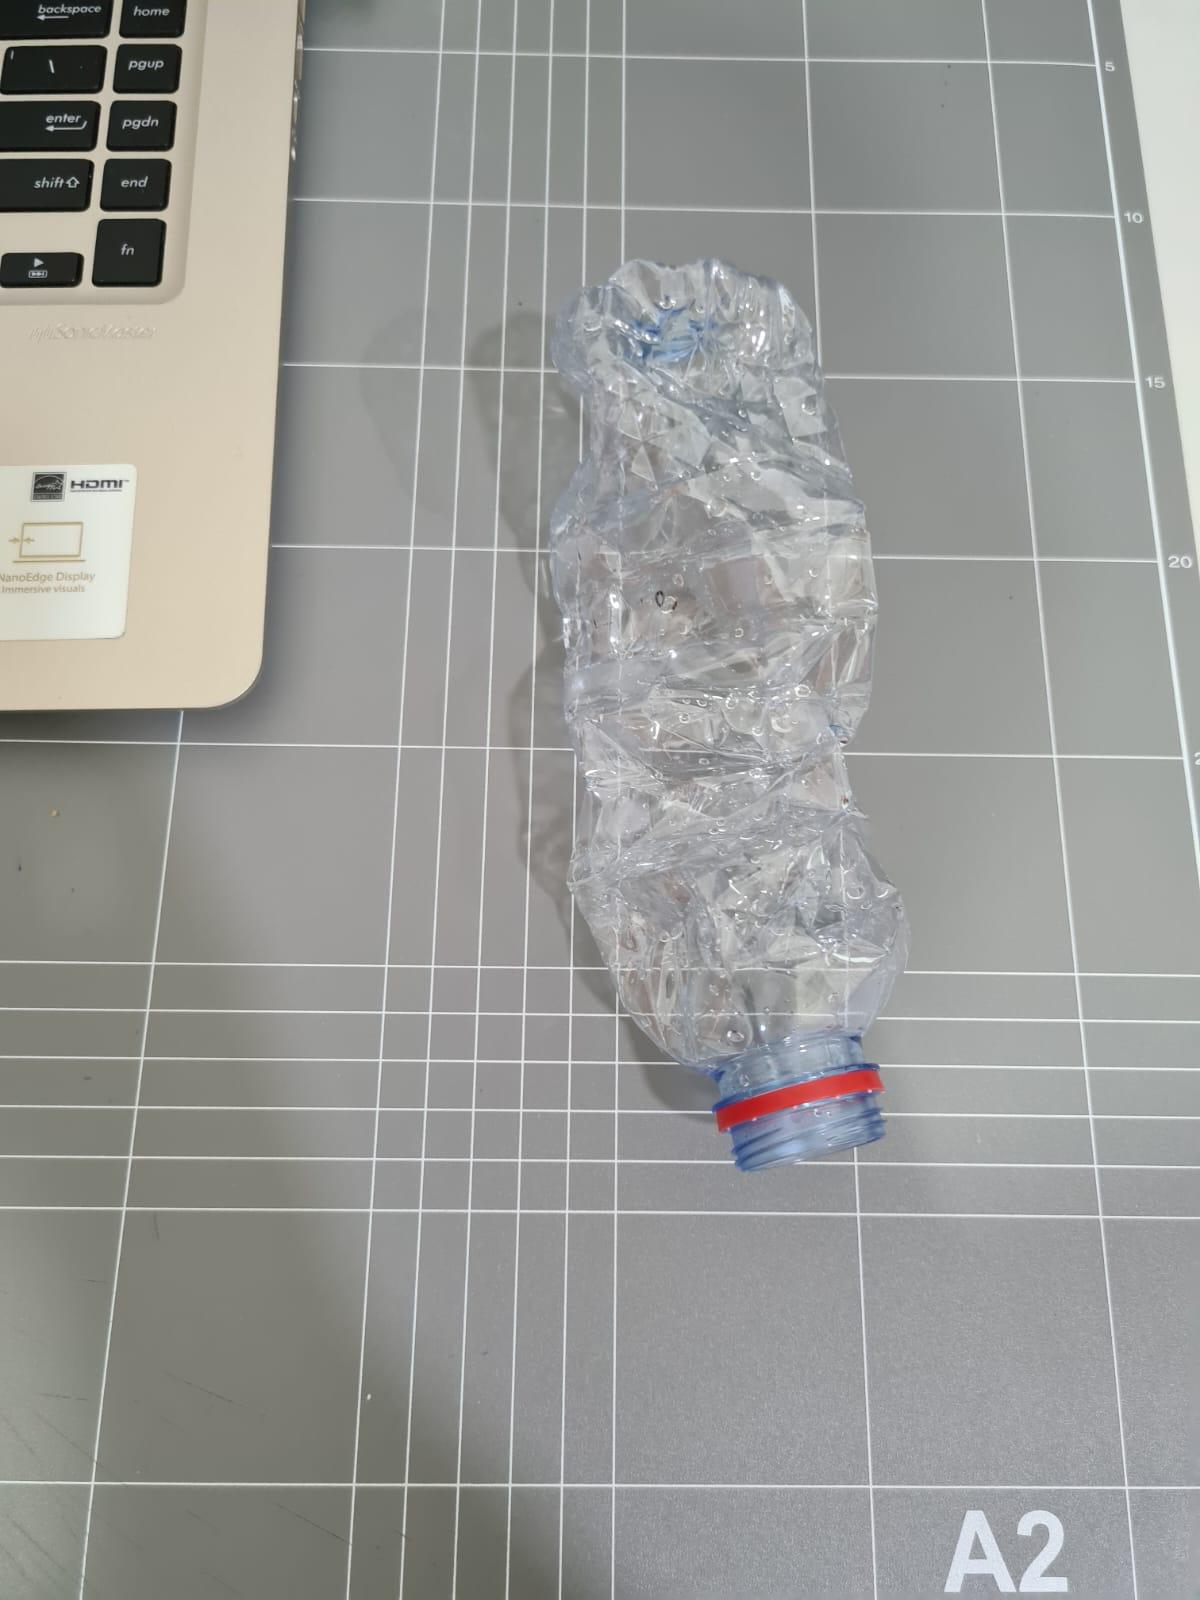bottle: (561, 247, 943, 1180)
